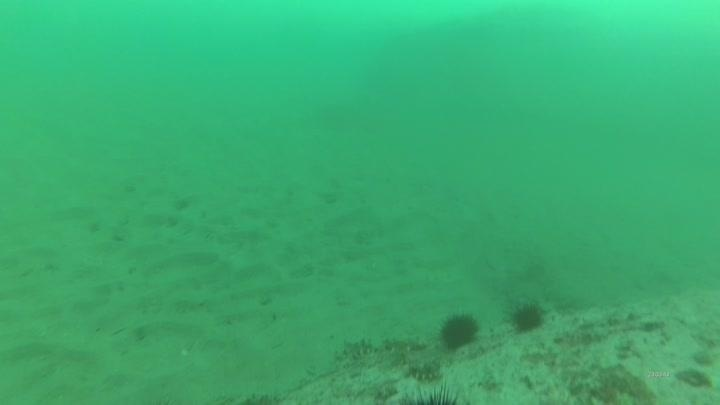echinus: (436, 310, 482, 353), (394, 383, 464, 405), (507, 299, 548, 335)
holothurian: (334, 335, 378, 372), (380, 331, 428, 355), (403, 359, 445, 385)
